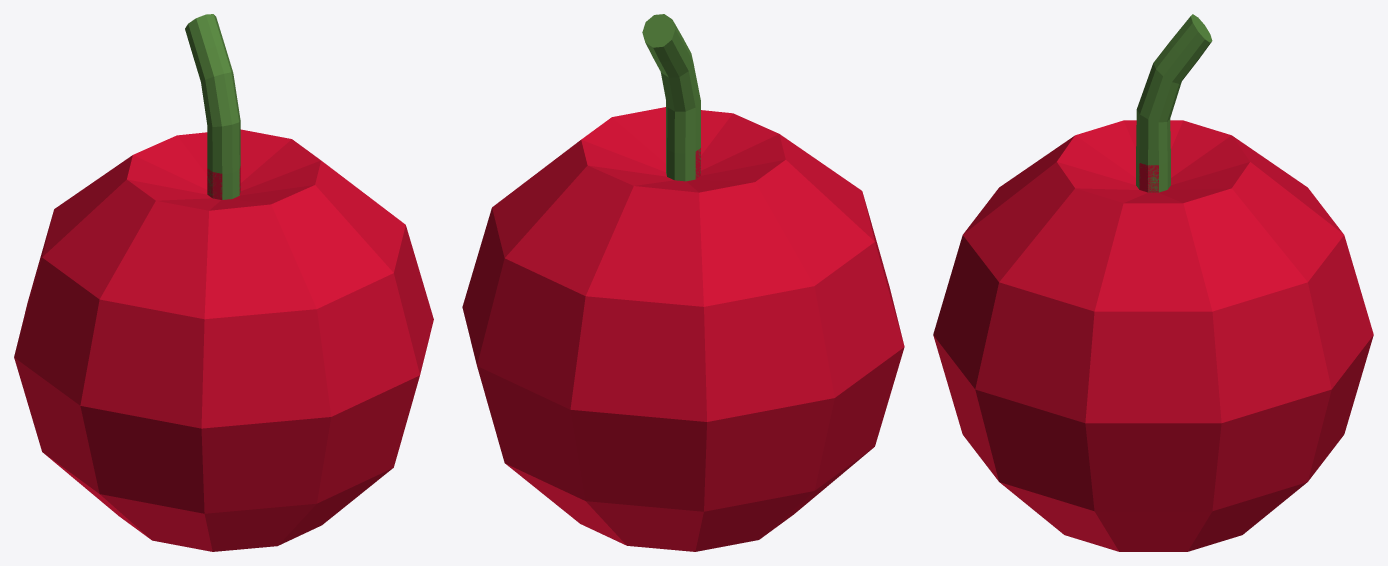
The model's file is Cherry.fbx.
3 renders of one model, left to right at view 1: azimuth 30°, elevation 25°; view 2: azimuth 150°, elevation 25°; view 3: azimuth 270°, elevation 25°, orthographic. The views are drawn at different scales.
Visible parts, largest first — view 1: Sphere; view 2: Sphere; view 3: Sphere.
Part boxes in pixels (left/top/right/bottom): Sphere: left=14, top=14, right=433, bottom=551; Sphere: left=462, top=14, right=904, bottom=551; Sphere: left=933, top=14, right=1373, bottom=551.
Size of the model in its own units: 190 by 260 by 200.
